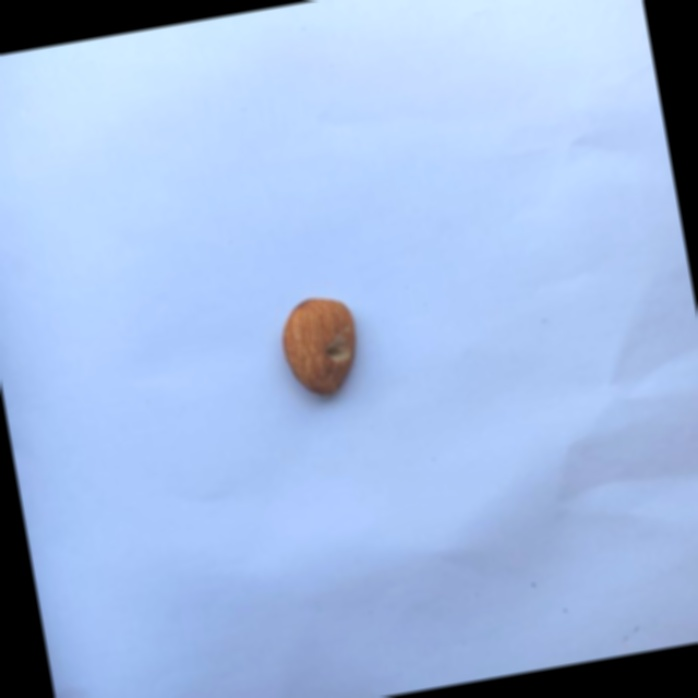grade3: (273, 287, 372, 407)
